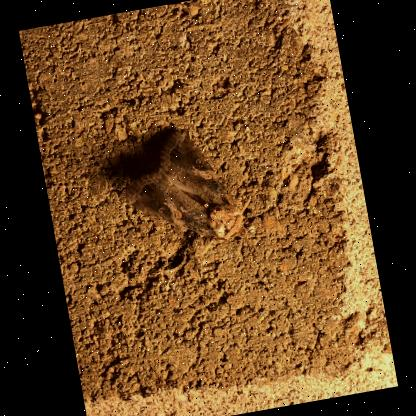Fall Armyworm Moth: (112, 111, 288, 281)
